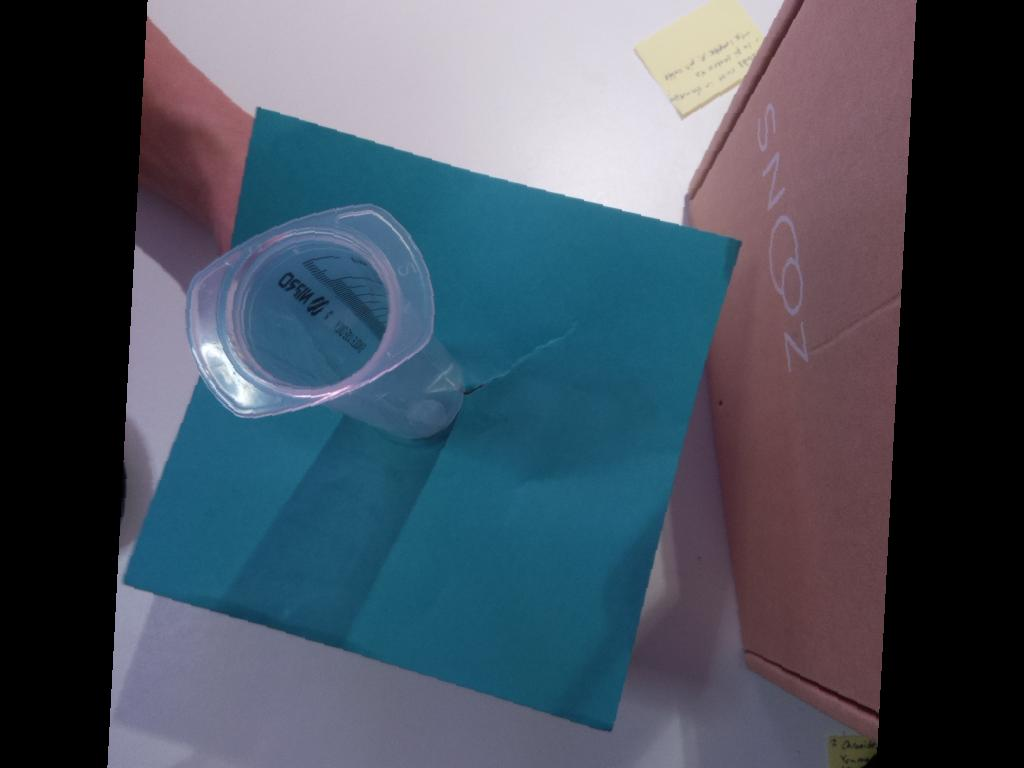clean: (186, 201, 436, 417)
